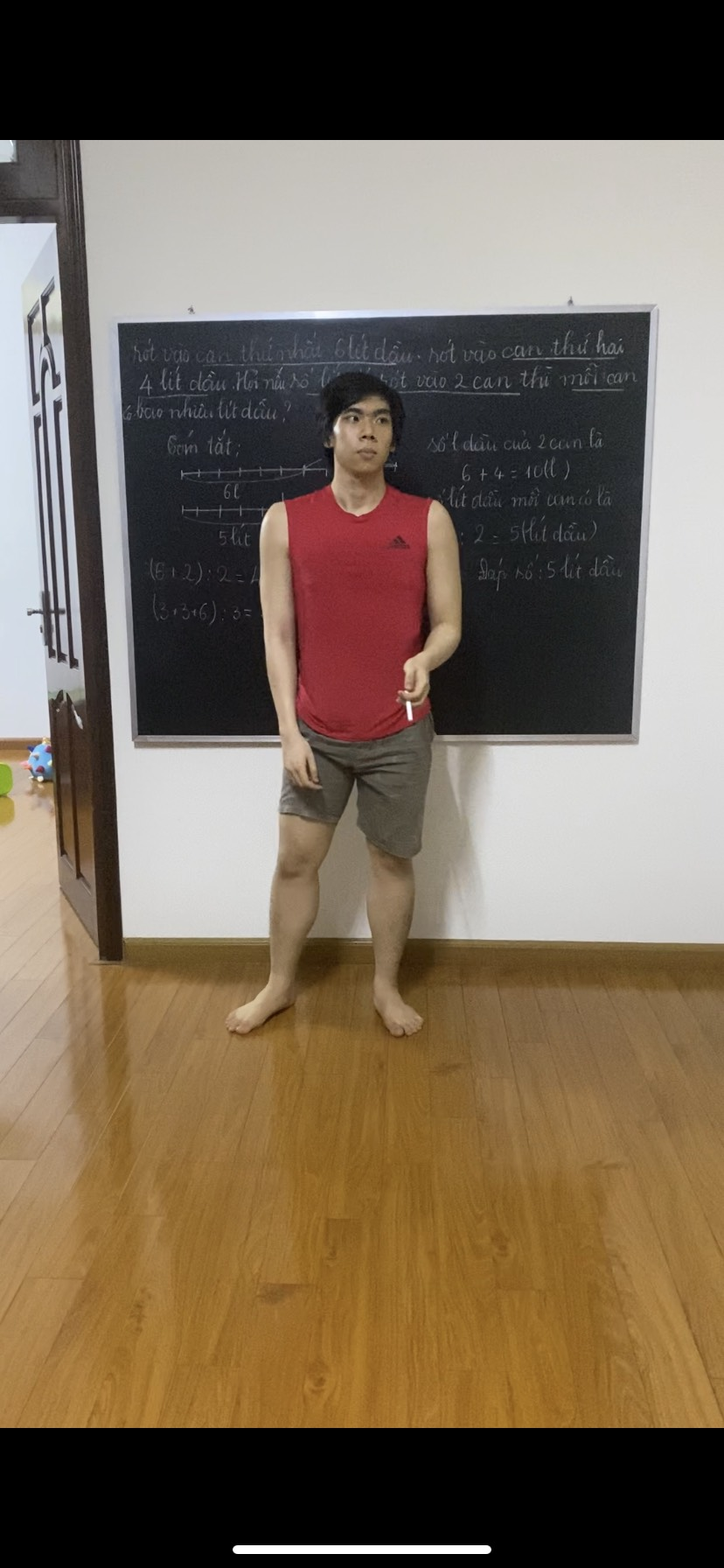cigarette: (400, 698, 419, 725)
person: (223, 348, 467, 1054)
